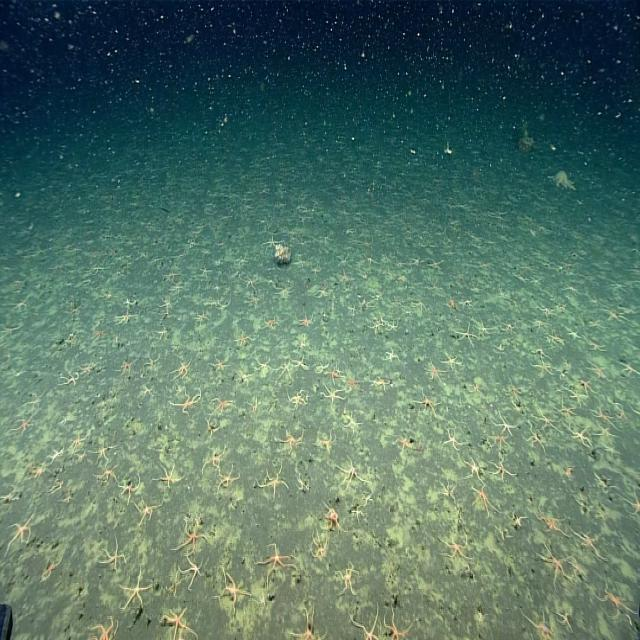brittle-stars: (534, 542, 568, 585), (528, 502, 567, 538), (118, 571, 154, 609), (256, 540, 293, 576), (348, 604, 382, 640), (6, 512, 36, 552), (288, 603, 320, 640), (522, 601, 552, 640), (255, 461, 290, 494), (163, 602, 194, 639), (439, 529, 473, 562), (219, 566, 245, 609), (382, 604, 413, 640), (176, 516, 203, 556), (99, 535, 128, 571), (336, 456, 366, 490), (488, 450, 516, 485), (176, 555, 207, 586), (532, 402, 561, 435), (412, 387, 440, 419), (576, 526, 602, 560), (469, 480, 495, 514), (135, 494, 161, 527), (157, 459, 182, 492), (170, 388, 202, 413), (89, 614, 119, 640), (492, 408, 518, 438), (335, 562, 359, 594), (523, 425, 547, 457), (118, 470, 140, 504), (455, 320, 480, 349), (440, 422, 464, 452), (462, 453, 484, 484), (280, 425, 305, 451), (310, 529, 329, 562), (10, 413, 35, 438), (591, 404, 615, 429), (204, 446, 227, 472), (216, 466, 238, 493), (320, 382, 343, 407), (211, 392, 237, 414), (555, 394, 577, 420), (571, 423, 591, 450), (340, 408, 359, 436), (530, 353, 554, 375), (370, 370, 391, 395), (169, 358, 192, 380), (425, 356, 443, 384), (96, 465, 118, 487), (576, 374, 596, 397), (92, 440, 110, 465), (208, 352, 229, 373), (441, 349, 463, 369), (344, 368, 362, 392), (534, 302, 556, 320), (602, 440, 621, 460), (254, 355, 272, 376), (70, 429, 86, 452), (288, 388, 306, 408), (59, 369, 80, 386), (476, 315, 491, 338), (240, 274, 259, 292), (278, 359, 294, 380), (234, 328, 252, 346), (114, 309, 133, 326), (158, 292, 174, 312), (382, 345, 400, 362), (298, 309, 314, 328), (193, 307, 209, 326), (500, 316, 516, 335), (120, 356, 135, 376), (79, 358, 95, 376), (315, 283, 330, 301), (326, 366, 340, 385), (292, 355, 308, 371), (263, 314, 277, 331), (386, 316, 399, 334), (198, 262, 211, 280), (264, 234, 279, 249)
